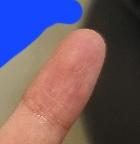Fingerprints: (26, 29, 106, 127)
